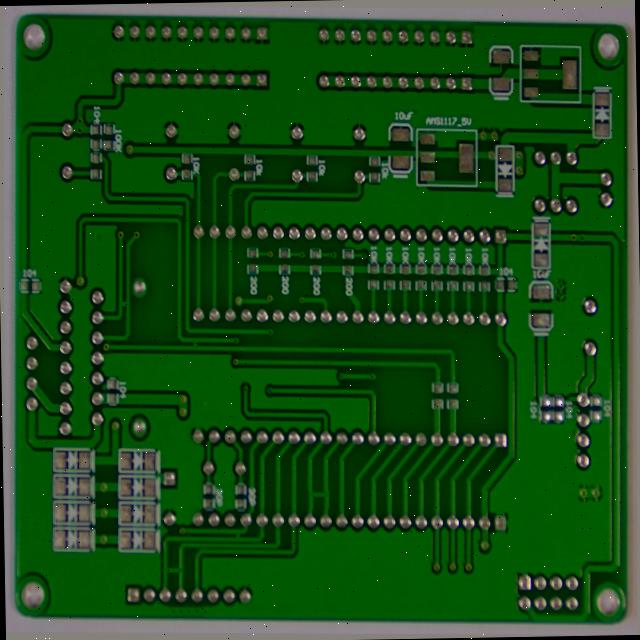short: (305, 489, 336, 510), (162, 568, 188, 590), (186, 339, 203, 357), (233, 534, 248, 551), (115, 299, 129, 316)
